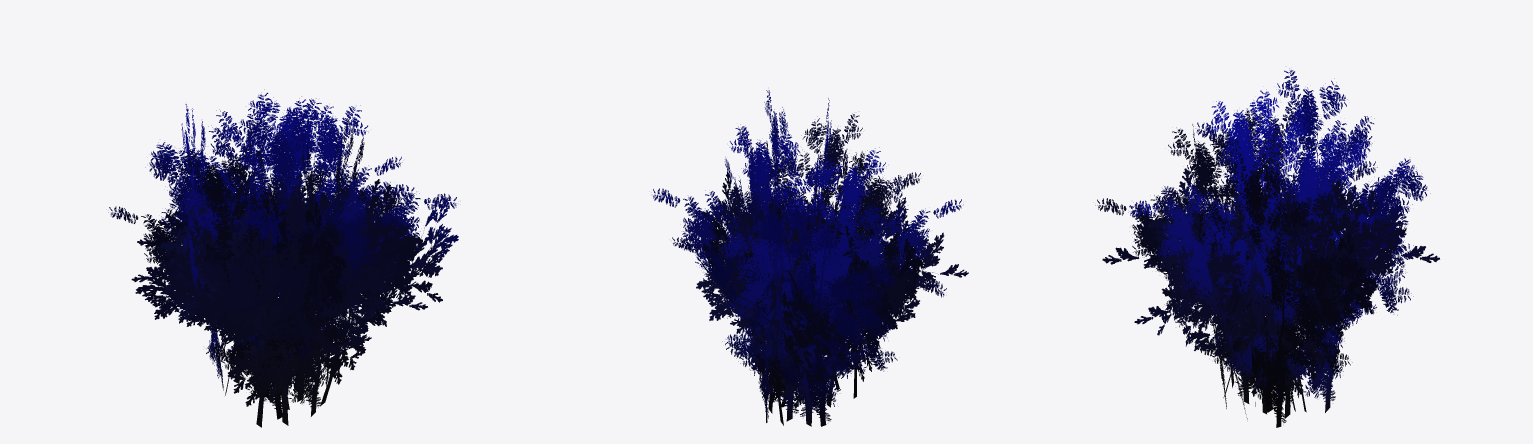
File: SM_Foliage_ShrubTallA_04.fbx
3 renders of one model, left to right at view 1: azimuth 30°, elevation 25°; view 2: azimuth 150°, elevation 25°; view 3: azimuth 270°, elevation 25°, orthographic. The views are drawn at different scales.
Parts seen in each view (by area): view 1: SM_Foliage_ShrubTallA_04; view 2: SM_Foliage_ShrubTallA_04; view 3: SM_Foliage_ShrubTallA_04.
Part boxes in pixels (x1=…): SM_Foliage_ShrubTallA_04: x1=108, y1=89, x2=458, y2=427; SM_Foliage_ShrubTallA_04: x1=653, y1=90, x2=968, y2=426; SM_Foliage_ShrubTallA_04: x1=1095, y1=68, x2=1439, y2=427.
Size of the model in its own units: 343 by 342 by 262.
